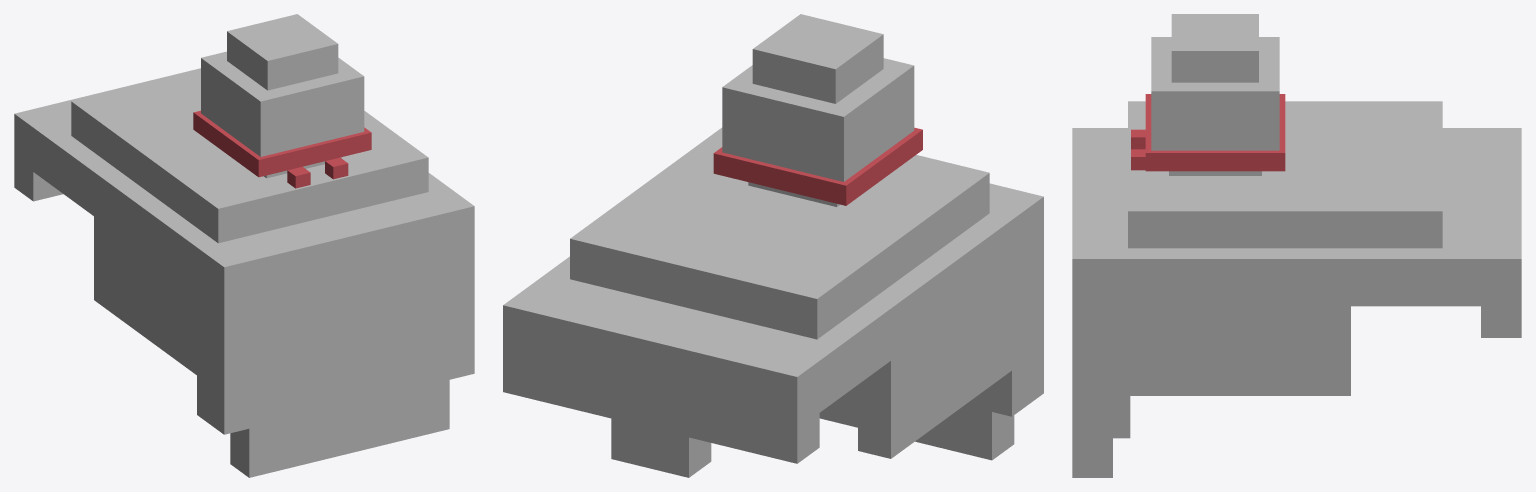
The model's file is cabelo_coque_samurai.glb.
3 views of the same model, side by side, from view 1: azimuth 30°, elevation 25°; view 2: azimuth 150°, elevation 25°; view 3: azimuth 270°, elevation 25° (orthographic). The views are drawn at different scales.
Parts seen in each view (by area): view 1: cabelo_coque_samurai; view 2: cabelo_coque_samurai; view 3: cabelo_coque_samurai.
Boxes of the visible parts, x1,y1,x2,y2 form: cabelo_coque_samurai: [14, 14, 474, 477]; cabelo_coque_samurai: [503, 14, 1043, 477]; cabelo_coque_samurai: [1072, 14, 1521, 477].
Bounding box in the file's own units: 0.532 × 0.745 × 0.772.
